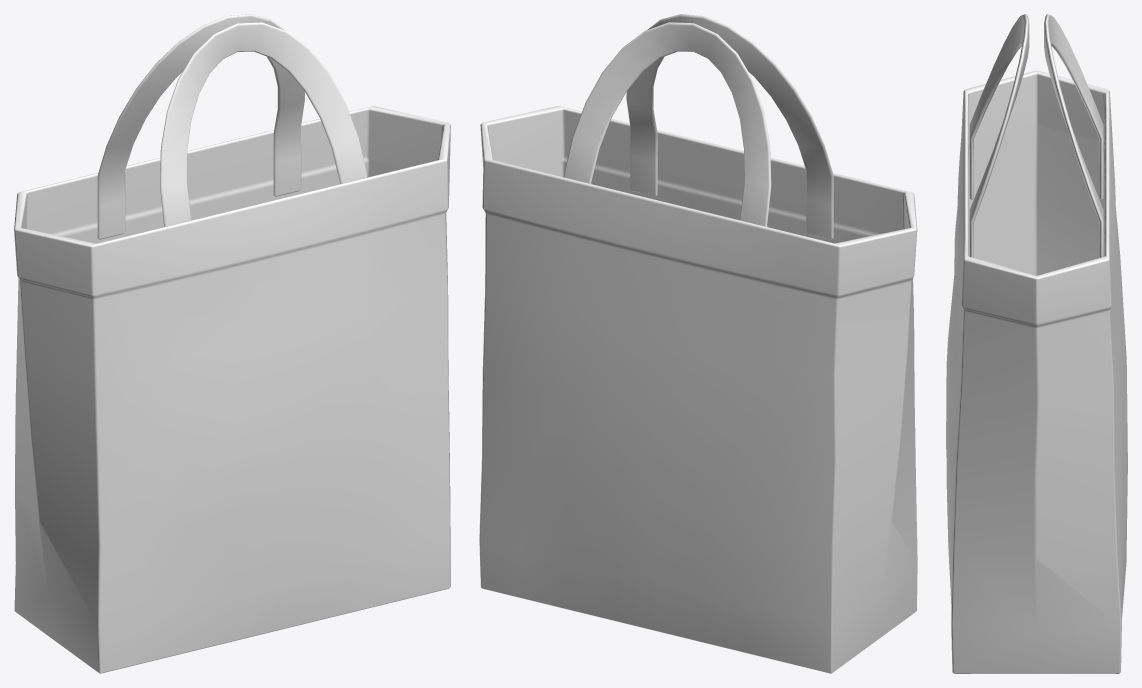
The model's file is carry_bag.glb.
3 views of the same model, side by side, from view 1: azimuth 30°, elevation 25°; view 2: azimuth 150°, elevation 25°; view 3: azimuth 270°, elevation 25° (orthographic). The views are drawn at different scales.
Visible parts, largest first — view 1: CarryBag; view 2: CarryBag; view 3: CarryBag.
Boxes of the visible parts, x1=… form: CarryBag: x1=14, y1=14, x2=450, y2=673; CarryBag: x1=479, y1=14, x2=917, y2=673; CarryBag: x1=946, y1=14, x2=1127, y2=673.
Size of the model in its own units: 0.3216 by 0.41 by 0.1188.
Materials: 1 (1 with a texture image).
